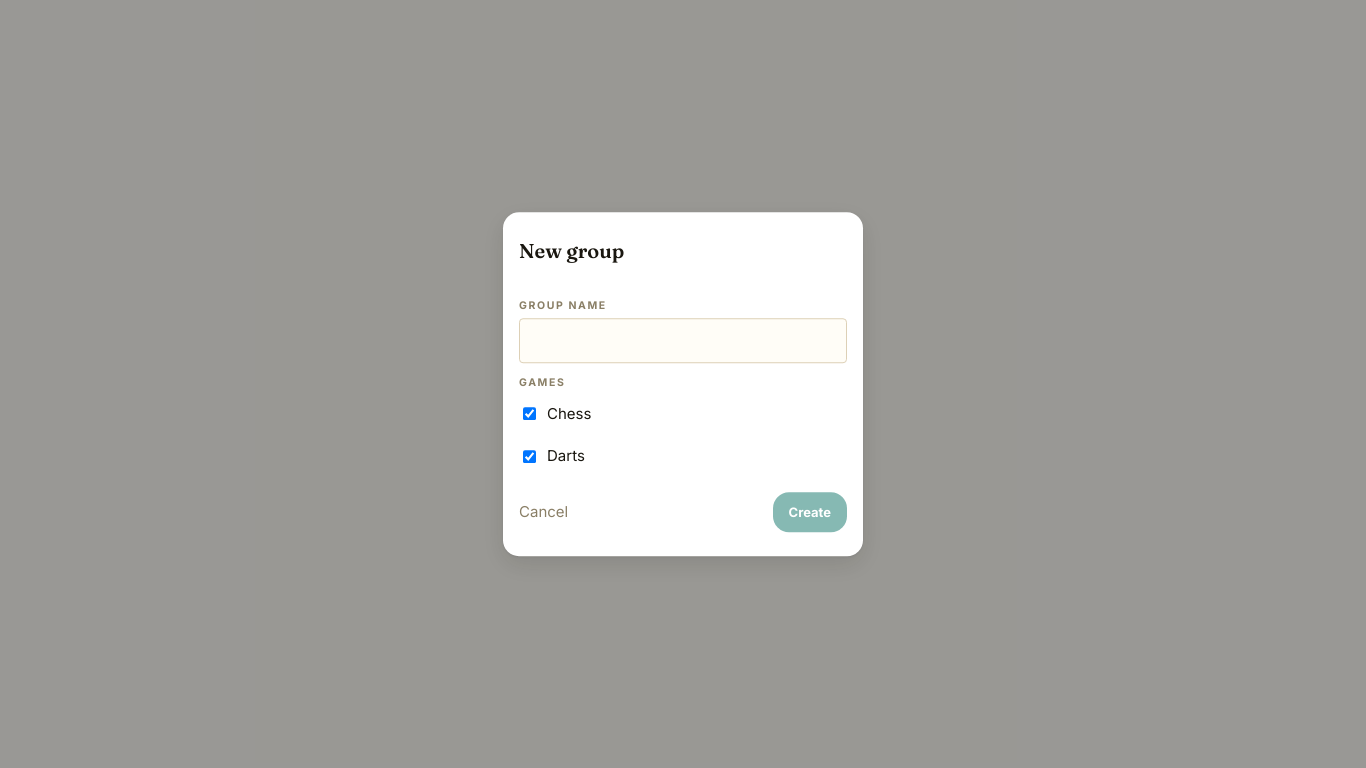
Test: CreateGroup › shows the server error message when creation fails
Expected: the checkbox labelled "Chess" is shown, [523, 408, 536, 420]
In the field labelled "Group name": (683, 340) [519, 318, 847, 363], type "Family Night"
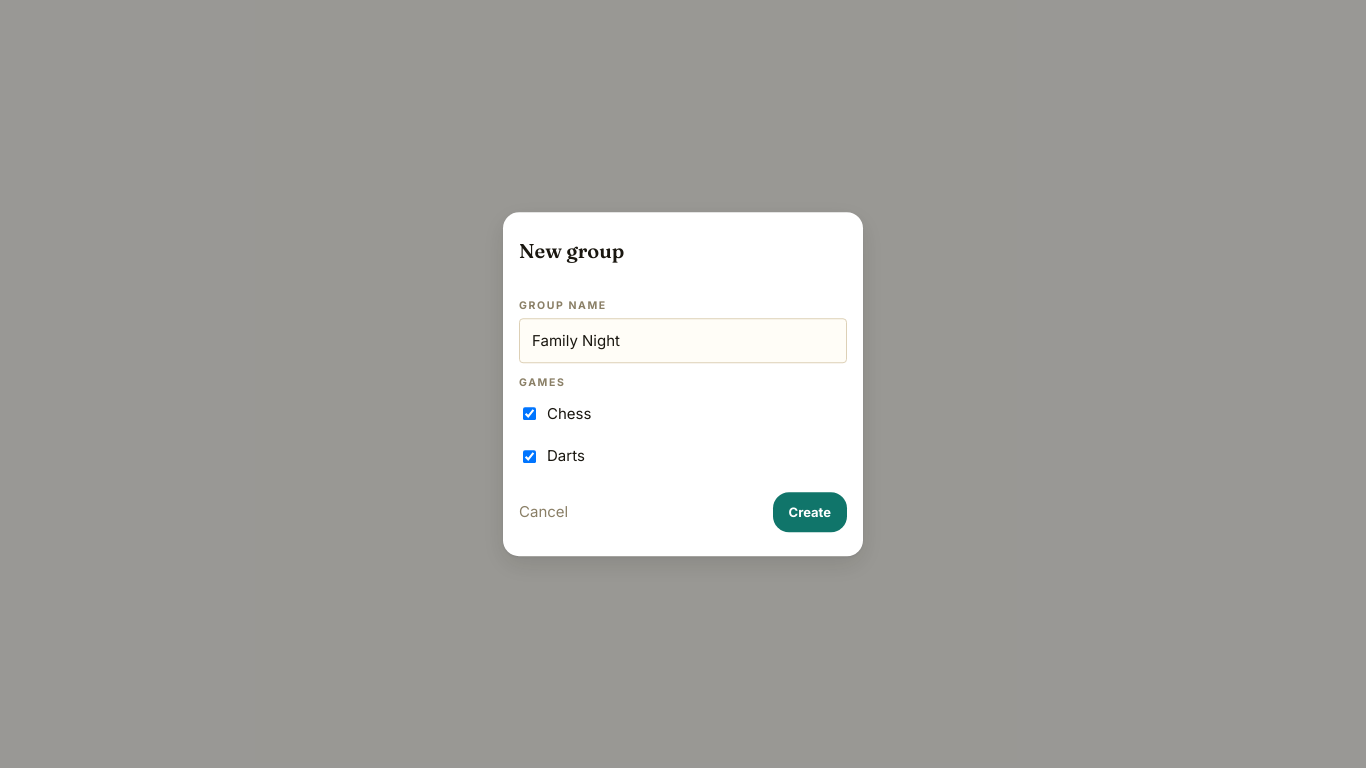
Click the button "Create": click(810, 512) [773, 492, 847, 532]
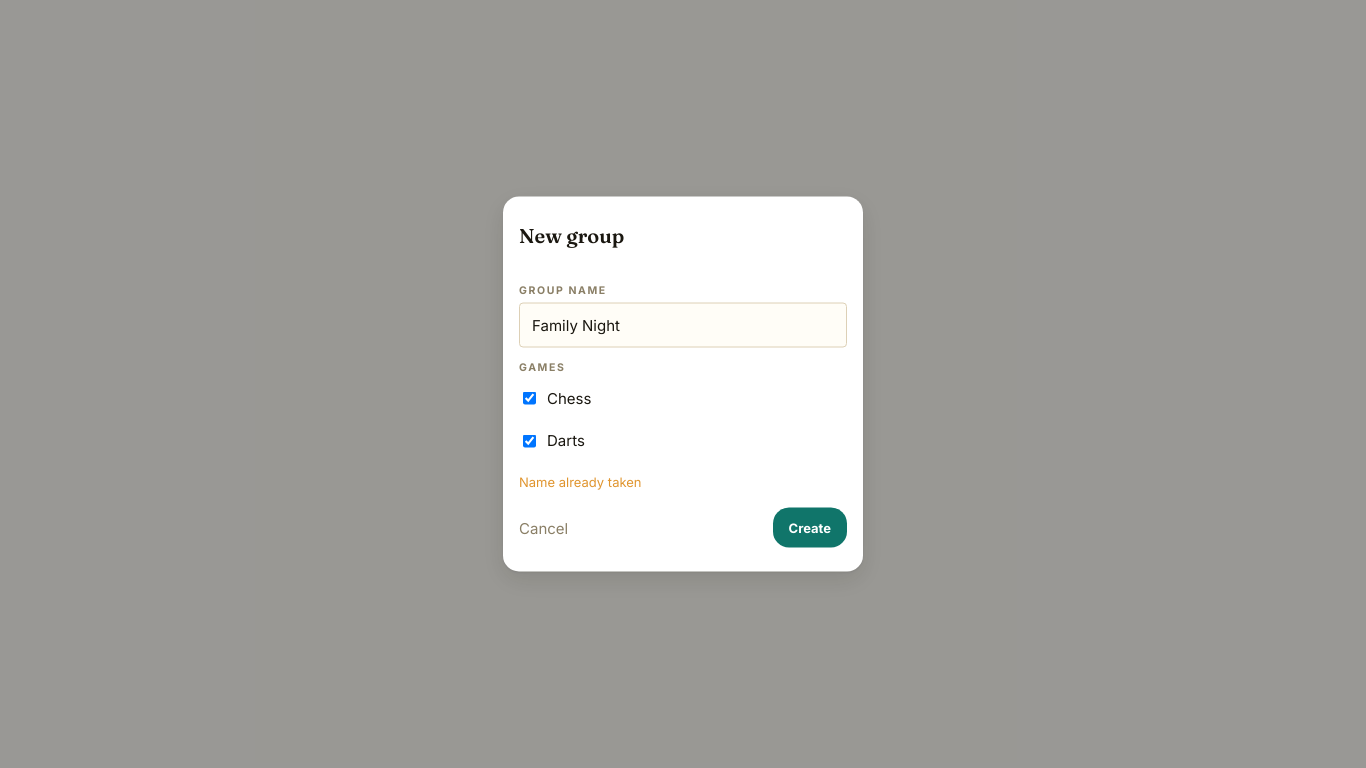
Result: the text "Name already taken" is shown at [519, 473, 642, 489]
